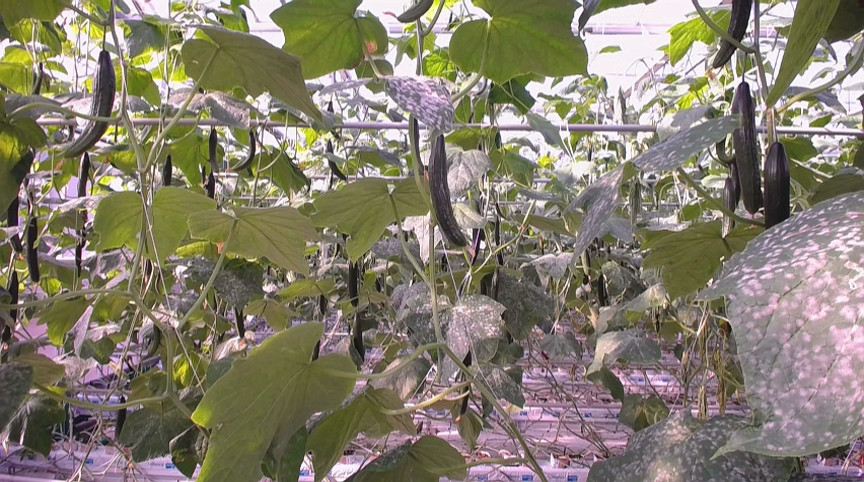cucumber: (64, 49, 115, 160), (426, 134, 468, 248), (732, 82, 762, 214), (710, 1, 751, 68), (763, 144, 791, 229), (24, 219, 41, 284), (7, 194, 21, 255), (345, 260, 360, 311), (161, 155, 173, 188)
